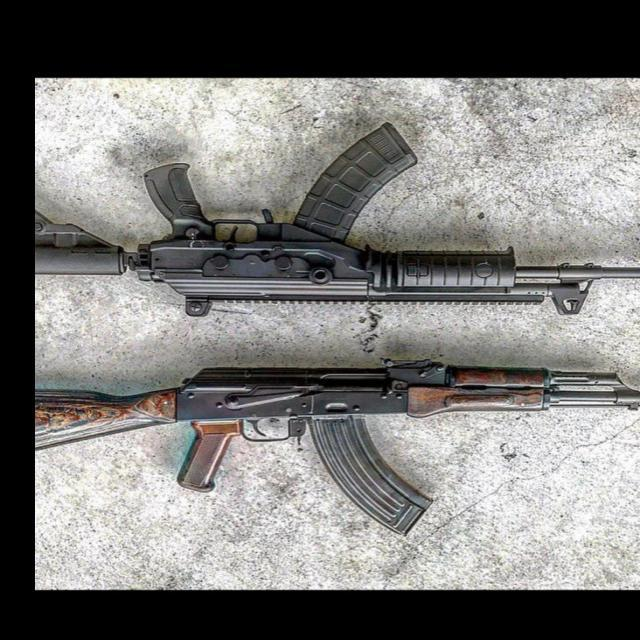weapon: (35, 124, 640, 318), (34, 360, 640, 535)
